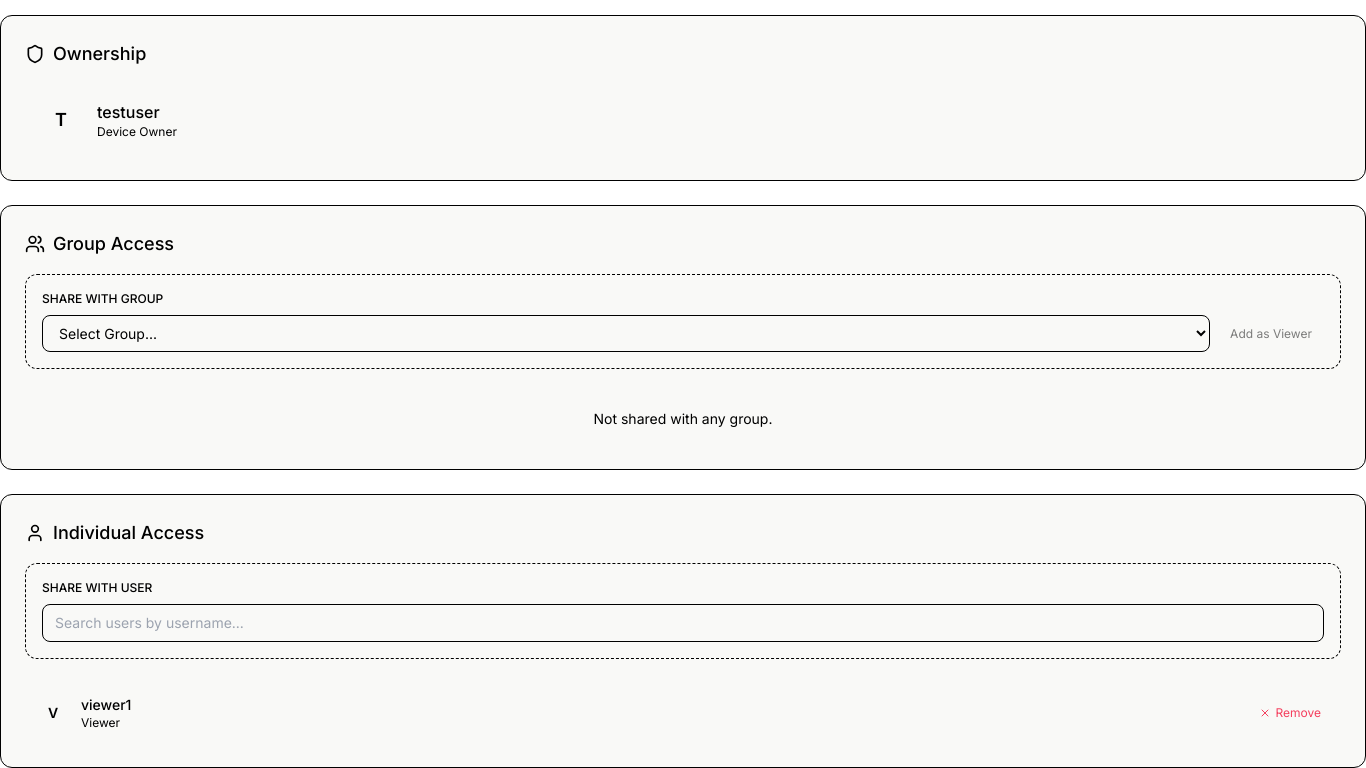
Test: DeviceSharing › filtering › filters out users who already have access from search results
(page scrolled)
Type "user" into the field with placeholder "Search users by username...".
click(683, 623); type("user")  # box [42, 604, 1324, 642]
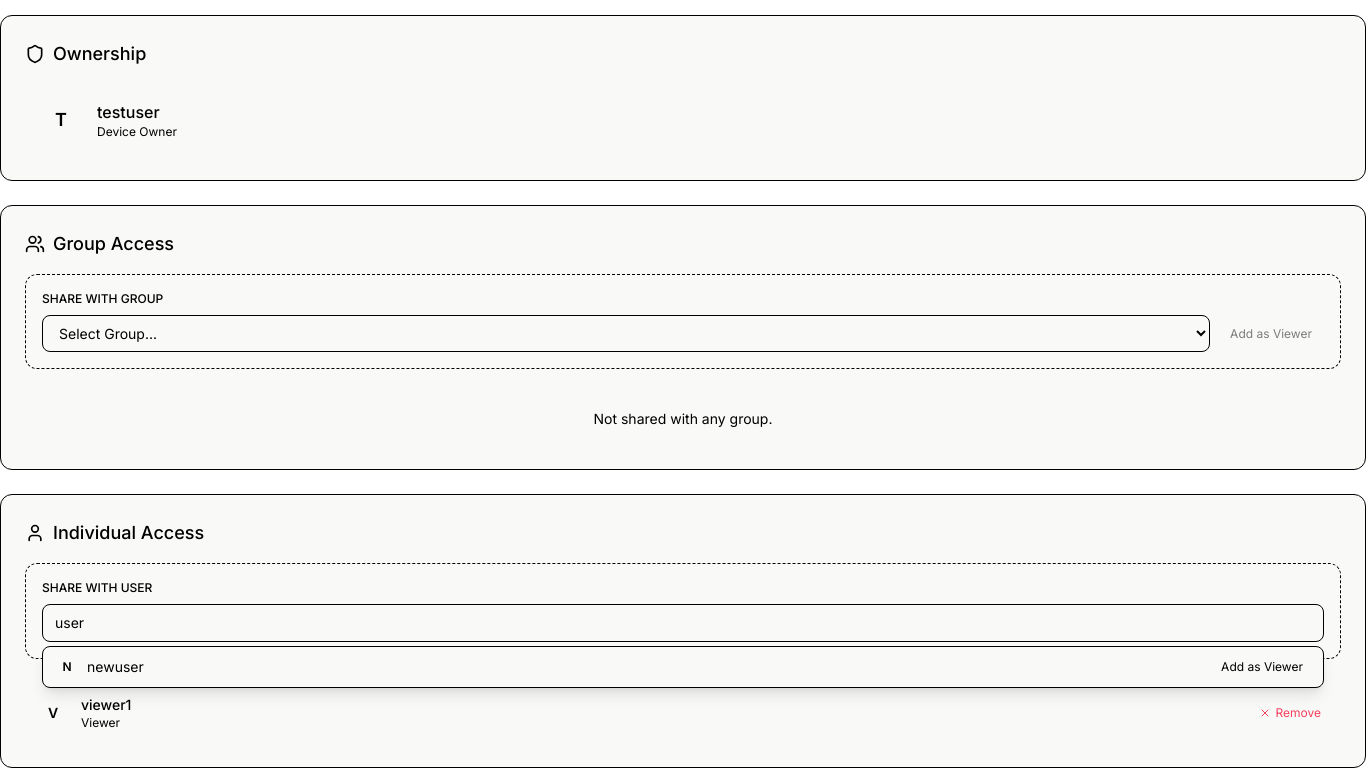
Expected: the element with class "z-10" does not show "testuser"
Now the text "newuser" is shown, box [87, 657, 144, 677]
